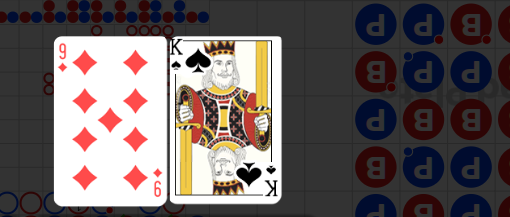9D: (152, 167, 163, 198)
KS: (264, 162, 280, 198)
